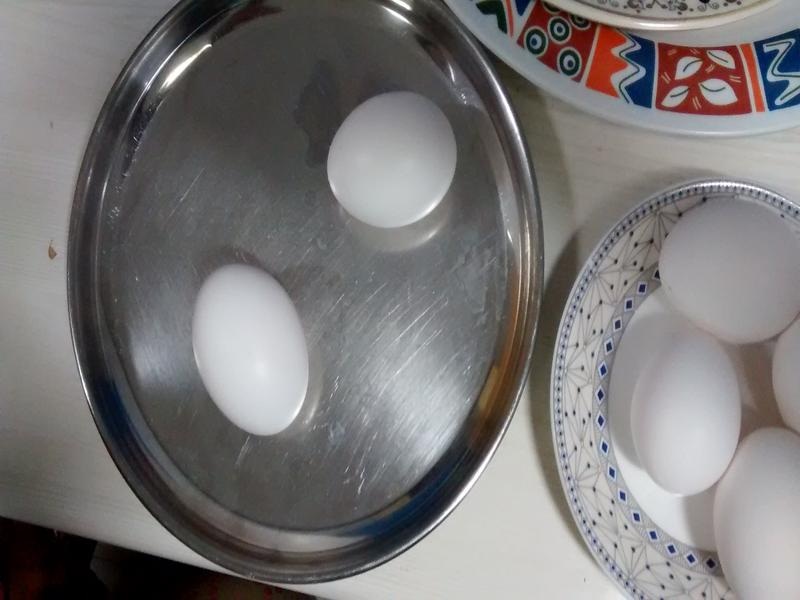egg: (193, 263, 309, 432)
